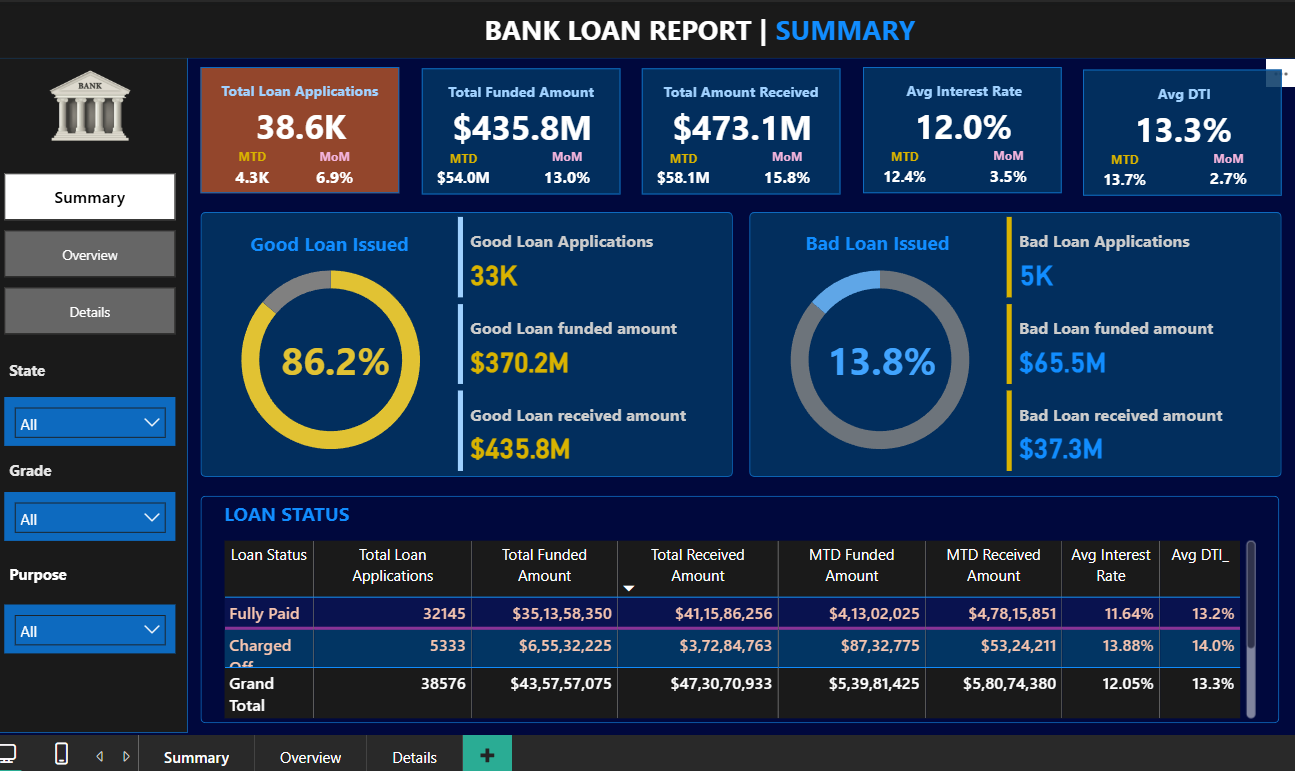

The dashboard page shown, as its layout file describes it:
{"tool":"powerbi","page":{"name":"Summary","canvas":[1280,720],"ordinal":0},"visuals":[{"type":"shape","box":[0,52.8,191.4,665],"z":0},{"type":"shape","box":[853.4,63.8,195.1,123.9],"z":0,"group":"g4"},{"type":"shape","box":[203.7,64.4,195.1,123.9],"z":0,"group":"g1"},{"type":"shape","box":[420.2,65,195.1,123.9],"z":0,"group":"g2"},{"type":"shape","box":[636.8,65.6,195.1,123.9],"z":0,"group":"g3"},{"type":"shape","box":[1069.9,66.3,195.1,123.9],"z":0,"group":"g5"},{"type":"shape","box":[0,0,1279.8,55.2],"z":1000},{"type":"card","fields":{"Values":["Measures Table.Avg Interest Rate"]},"box":[871.8,98.2,160.7,47.9],"z":1000,"group":"g4"},{"type":"card","fields":{"Values":["Measures Table.Total Loan Applications"]},"box":[222.1,98.8,160.7,47.9],"z":1000,"group":"g1"},{"type":"card","fields":{"Values":["Measures Table.Total Funded Amount"]},"box":[438.6,99.4,160.7,47.9],"z":1000,"group":"g2"},{"type":"card","fields":{"Values":["Measures Table.Total Received Amount"]},"box":[655.2,100,160.7,47.9],"z":1000,"group":"g3"},{"type":"card","fields":{"Values":["Measures Table.Avg DTI_"]},"box":[1088.3,100.7,160.7,47.9],"z":1000,"group":"g5"},{"type":"textbox","box":[853.4,72.4,195.1,29.4],"z":2000,"group":"g4"},{"type":"textbox","box":[203.7,73,195.1,29.4],"z":2000,"group":"g1"},{"type":"textbox","box":[420.2,73.6,195.1,29.4],"z":2000,"group":"g2"},{"type":"textbox","box":[636.8,74.2,195.1,29.4],"z":2000,"group":"g3"},{"type":"textbox","box":[1069.9,74.9,195.1,29.4],"z":2000,"group":"g5"},{"type":"shape","box":[203.7,206.1,522.7,260.1],"z":2000},{"type":"card","title":"MTD","fields":{"Values":["Measures Table.Avg MTD Interest Rate"]},"box":[862.1,143.1,65,44.2],"z":3000,"group":"g4"},{"type":"card","title":"MTD","fields":{"Values":["Measures Table.Total MTD"]},"box":[222.1,144.2,65,44.2],"z":3000,"group":"g1"},{"type":"card","title":"MTD","fields":{"Values":["Measures Table.MTD Funded Amount"]},"box":[428.9,144.3,65,44.2],"z":3000,"group":"g2"},{"type":"card","title":"MTD","fields":{"Values":["Measures Table.MTD Received Amount"]},"box":[645.5,144.9,65,44.2],"z":3000,"group":"g3"},{"type":"card","title":"MTD","fields":{"Values":["Measures Table.MTD DTI"]},"box":[1078.6,145.6,65,44.2],"z":3000,"group":"g5"},{"type":"card","fields":{"Values":["Measures Table.Good Loan %"]},"box":[256.6,328,160.5,48],"z":3000},{"type":"textbox","box":[350.9,3.7,685.9,49.1],"z":4000},{"type":"card","title":"MoM","fields":{"Values":["Measures Table.MoM Interest Rate"]},"box":[963.2,142.6,65,44.2],"z":4000,"group":"g4"},{"type":"card","title":"MoM","fields":{"Values":["Measures Table.Mom funded Amount"]},"box":[530,143.8,65,44.2],"z":4000,"group":"g2"},{"type":"card","title":"MoM","fields":{"Values":["Measures Table.Mom Loan Applications"]},"box":[303.1,144.2,65,44.2],"z":4000,"group":"g1"},{"type":"card","title":"MoM","fields":{"Values":["Measures Table.MoM Received Amount"]},"box":[746.6,144.4,65,44.2],"z":4000,"group":"g3"},{"type":"card","title":"MoM","fields":{"Values":["Measures Table.Mom DTI"]},"box":[1179.7,145.1,65,44.2],"z":4000,"group":"g5"},{"type":"group","id":"g1","title":"Group 1","box":[203.7,64.4,195.1,123.9],"z":5000},{"type":"donutChart","fields":{"Category":["Bank_Loan_Data.Good Loan Vs Bad Loan"],"Y":["Measures Table.Total Loan Applications"]},"box":[205.8,237.4,251.1,229.2],"z":6000},{"type":"group","id":"g2","title":"Group 1","box":[420.2,65,195.1,123.9],"z":7000},{"type":"group","id":"g3","title":"Group 1","box":[636.8,65.6,195.1,123.9],"z":8000},{"type":"group","id":"g4","title":"Group 1","box":[853.4,63.8,195.1,123.9],"z":9000},{"type":"group","id":"g5","title":"Group 1","box":[1069.9,66.3,195.1,123.9],"z":10000},{"type":"shape","box":[742.3,206.1,522.7,260.1],"z":11000},{"type":"textbox","box":[222.1,484.7,185.3,39.3],"z":12000},{"type":"cardVisual","fields":{"Data":["Measures Table.Good Loan Applications","Measures Table.Good Loan funded amount","Measures Table.Good Loan received amount"]},"box":[451.5,205.8,274.4,260.7],"z":13000},{"type":"donutChart","fields":{"Category":["Bank_Loan_Data.Good Loan Vs Bad Loan"],"Y":["Measures Table.Total Loan Applications"]},"box":[746.5,237.4,249.7,229.2],"z":14000},{"type":"textbox","box":[792.6,218.4,184.1,35.6],"z":15000},{"type":"card","fields":{"Values":["Measures Table.Bad Loan %"]},"box":[793.1,328,160.5,48],"z":16000},{"type":"cardVisual","fields":{"Data":["Measures Table.Bad Loan Applications","Measures Table.Bad Loan funded amount","Measures Table.Bad Loan received amount"]},"box":[990.7,205.8,274.4,260.7],"z":17000},{"type":"shape","box":[203.7,484.7,1058.9,223.3],"z":18000},{"type":"tableEx","fields":{"Values":["Bank_Loan_Data.loan_status","Measures Table.Total Loan Applications","Measures Table.Total Funded Amount","Measures Table.Total Received Amount","Measures Table.MTD Funded Amount","Measures Table.MTD Received Amount","Measures Table.Avg Interest Rate","Measures Table.Avg DTI_"]},"box":[220.9,523.9,1023.3,184.1],"z":19000},{"type":"textbox","box":[247.9,219.6,191.4,35.6],"z":20000},{"type":"slicer","fields":{"Values":["Bank_Loan_Data.address_state"]},"box":[11,387.7,168.1,47.9],"z":21000},{"type":"textbox","box":[11,342.3,180.4,45.4],"z":22000},{"type":"slicer","fields":{"Values":["Bank_Loan_Data.grade"]},"box":[11,481,168.1,47.9],"z":23000},{"type":"textbox","box":[11,440.5,90.8,40.5],"z":24000},{"type":"slicer","fields":{"Values":["Bank_Loan_Data.purpose"]},"box":[11,591.4,168.1,47.9],"z":25000},{"type":"textbox","box":[11,542.3,126.4,49.1],"z":26000},{"type":"image","box":[40.5,62.6,109.2,78.5],"z":27000},{"type":"pageNavigator","box":[11,168.1,168.1,159.5],"z":27001}]}

Visuals, with their boxes on the page's 1280x720 design canvas (x1, y1, x2, y2). These are canvas units, not pixel positions in the 1295x771 screenshot, which may show the page scaled, cropped or inside an application window:
shape: bbox(0, 53, 191, 718)
shape: bbox(853, 64, 1048, 188)
shape: bbox(204, 64, 399, 188)
shape: bbox(420, 65, 615, 189)
shape: bbox(637, 66, 832, 190)
shape: bbox(1070, 66, 1265, 190)
shape: bbox(0, 0, 1280, 55)
card - Measures Table.Avg Interest Rate: bbox(872, 98, 1032, 146)
card - Measures Table.Total Loan Applications: bbox(222, 99, 383, 147)
card - Measures Table.Total Funded Amount: bbox(439, 99, 599, 147)
card - Measures Table.Total Received Amount: bbox(655, 100, 816, 148)
card - Measures Table.Avg DTI_: bbox(1088, 101, 1249, 149)
textbox: bbox(853, 72, 1048, 102)
textbox: bbox(204, 73, 399, 102)
textbox: bbox(420, 74, 615, 103)
textbox: bbox(637, 74, 832, 104)
textbox: bbox(1070, 75, 1265, 104)
shape: bbox(204, 206, 726, 466)
"MTD" card: bbox(862, 143, 927, 187)
"MTD" card: bbox(222, 144, 287, 188)
"MTD" card: bbox(429, 144, 494, 188)
"MTD" card: bbox(646, 145, 710, 189)
"MTD" card: bbox(1079, 146, 1144, 190)
card - Measures Table.Good Loan %: bbox(257, 328, 417, 376)
textbox: bbox(351, 4, 1037, 53)
"MoM" card: bbox(963, 143, 1028, 187)
"MoM" card: bbox(530, 144, 595, 188)
"MoM" card: bbox(303, 144, 368, 188)
"MoM" card: bbox(747, 144, 812, 189)
"MoM" card: bbox(1180, 145, 1245, 189)
"Group 1" group: bbox(204, 64, 399, 188)
donutChart - Bank_Loan_Data.Good Loan Vs Bad Loan x Measures Table.Total Loan Applications: bbox(206, 237, 457, 467)
"Group 1" group: bbox(420, 65, 615, 189)
"Group 1" group: bbox(637, 66, 832, 190)
"Group 1" group: bbox(853, 64, 1048, 188)
"Group 1" group: bbox(1070, 66, 1265, 190)
shape: bbox(742, 206, 1265, 466)
textbox: bbox(222, 485, 407, 524)
cardVisual - Measures Table.Good Loan Applications x Measures Table.Good Loan funded amount: bbox(452, 206, 726, 466)
donutChart - Bank_Loan_Data.Good Loan Vs Bad Loan x Measures Table.Total Loan Applications: bbox(746, 237, 996, 467)
textbox: bbox(793, 218, 977, 254)
card - Measures Table.Bad Loan %: bbox(793, 328, 954, 376)
cardVisual - Measures Table.Bad Loan Applications x Measures Table.Bad Loan funded amount: bbox(991, 206, 1265, 466)
shape: bbox(204, 485, 1263, 708)
tableEx - Bank_Loan_Data.loan_status x Measures Table.Total Loan Applications: bbox(221, 524, 1244, 708)
textbox: bbox(248, 220, 439, 255)
slicer - Bank_Loan_Data.address_state: bbox(11, 388, 179, 436)
textbox: bbox(11, 342, 191, 388)
slicer - Bank_Loan_Data.grade: bbox(11, 481, 179, 529)
textbox: bbox(11, 440, 102, 481)
slicer - Bank_Loan_Data.purpose: bbox(11, 591, 179, 639)
textbox: bbox(11, 542, 137, 591)
image: bbox(40, 63, 150, 141)
pageNavigator: bbox(11, 168, 179, 328)
